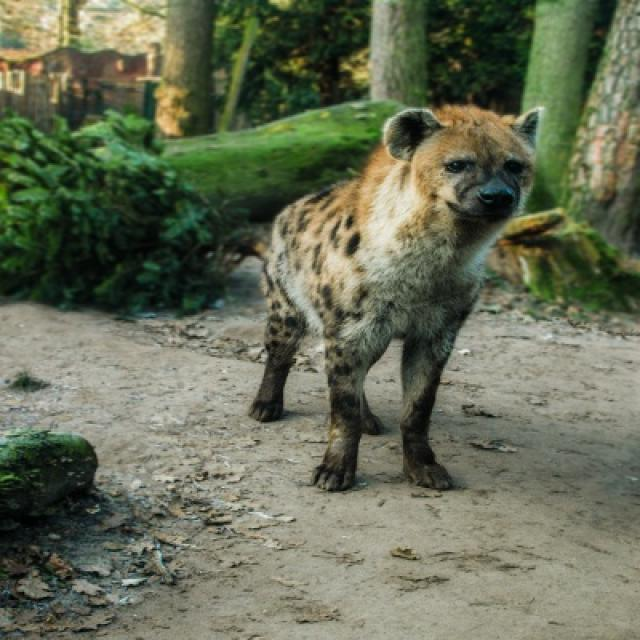hyena: (250, 106, 542, 490)
